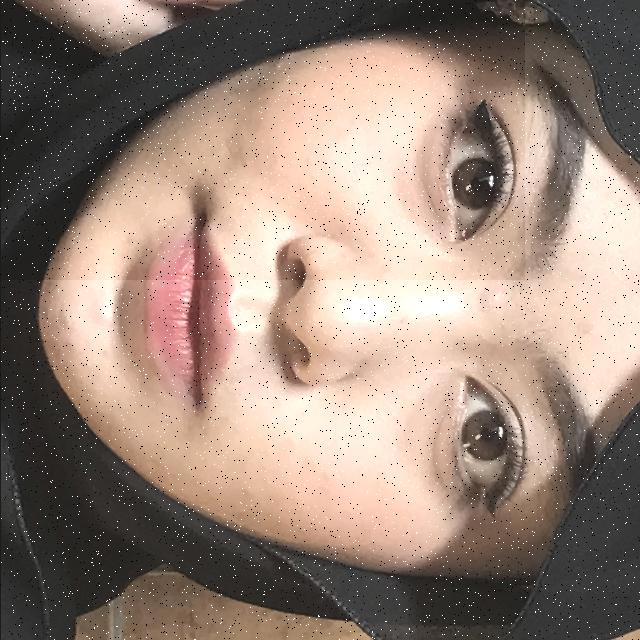ibu: (0, 0, 524, 280)
